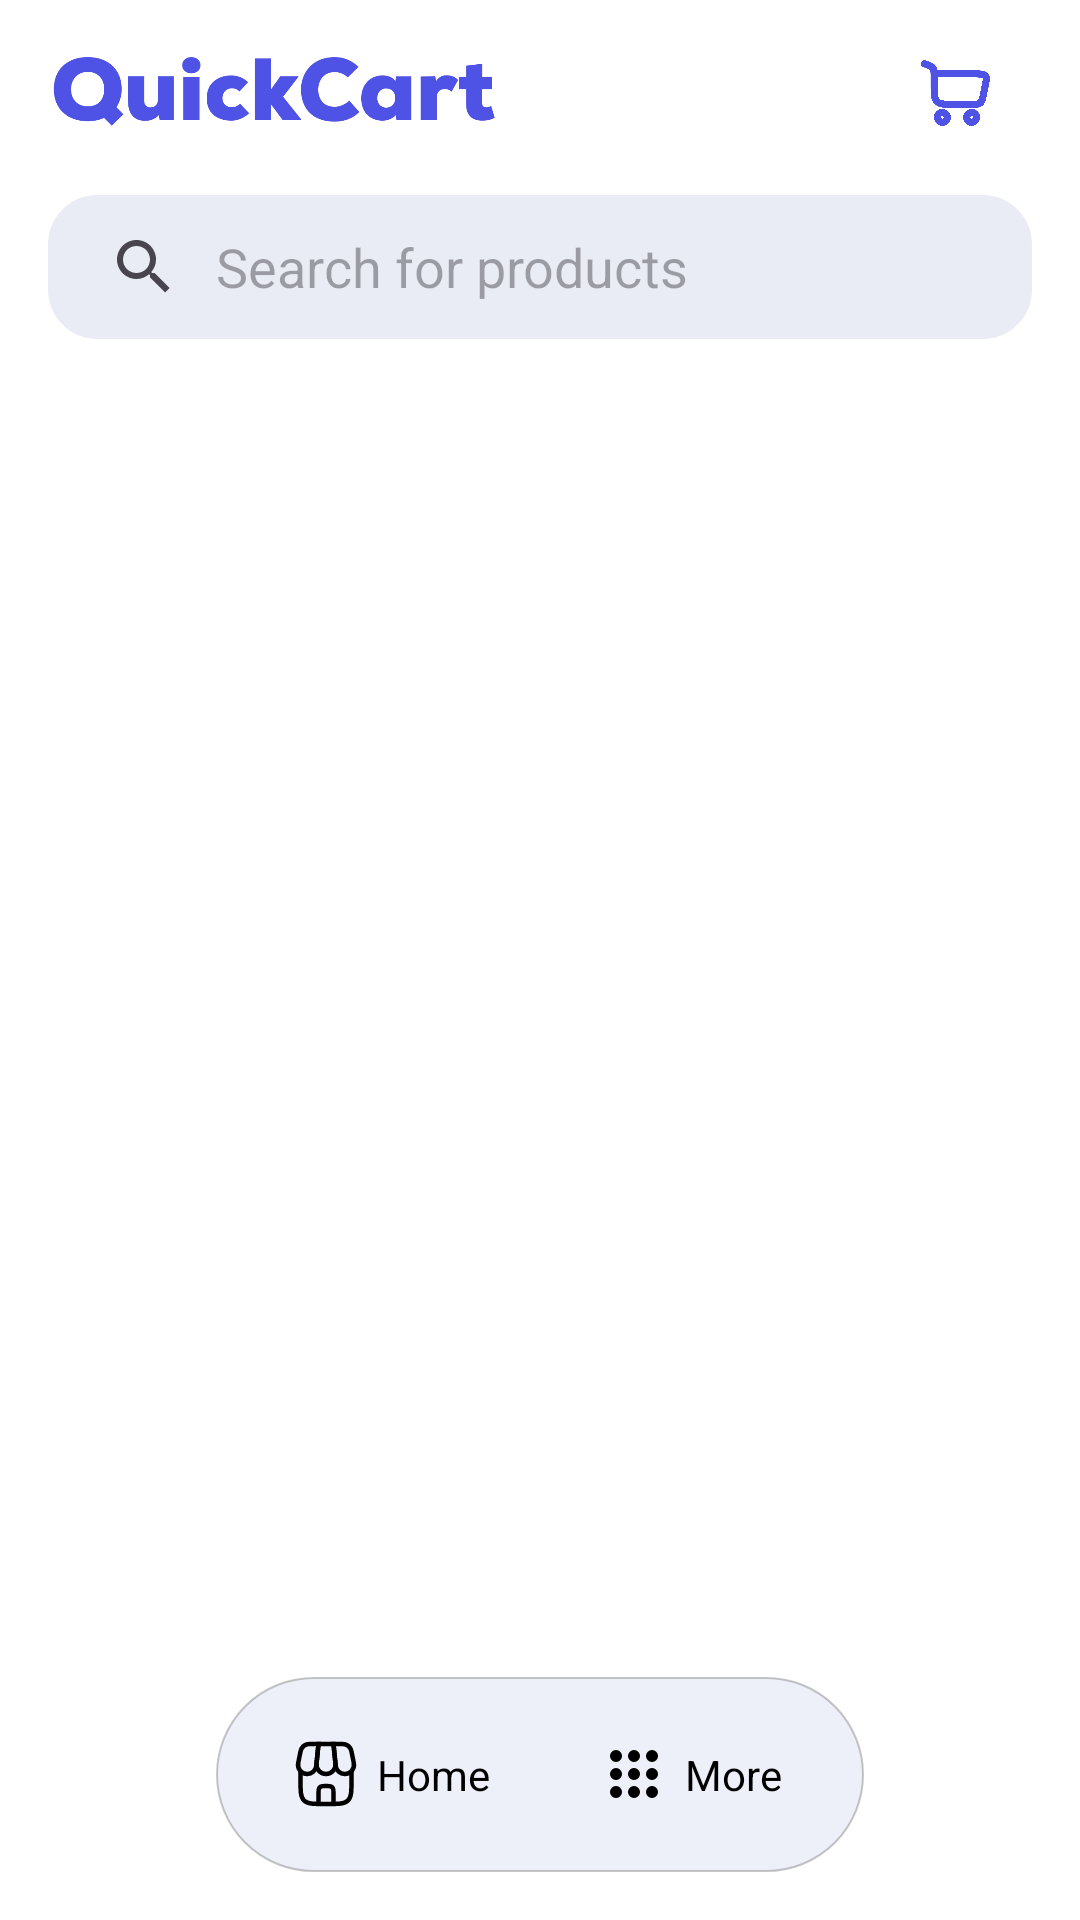

Point at icon controls on the screen. Image size 1080×1920, points as point (x, y).
Cart Button: point (955, 93)
shop tab: point (326, 1774)
